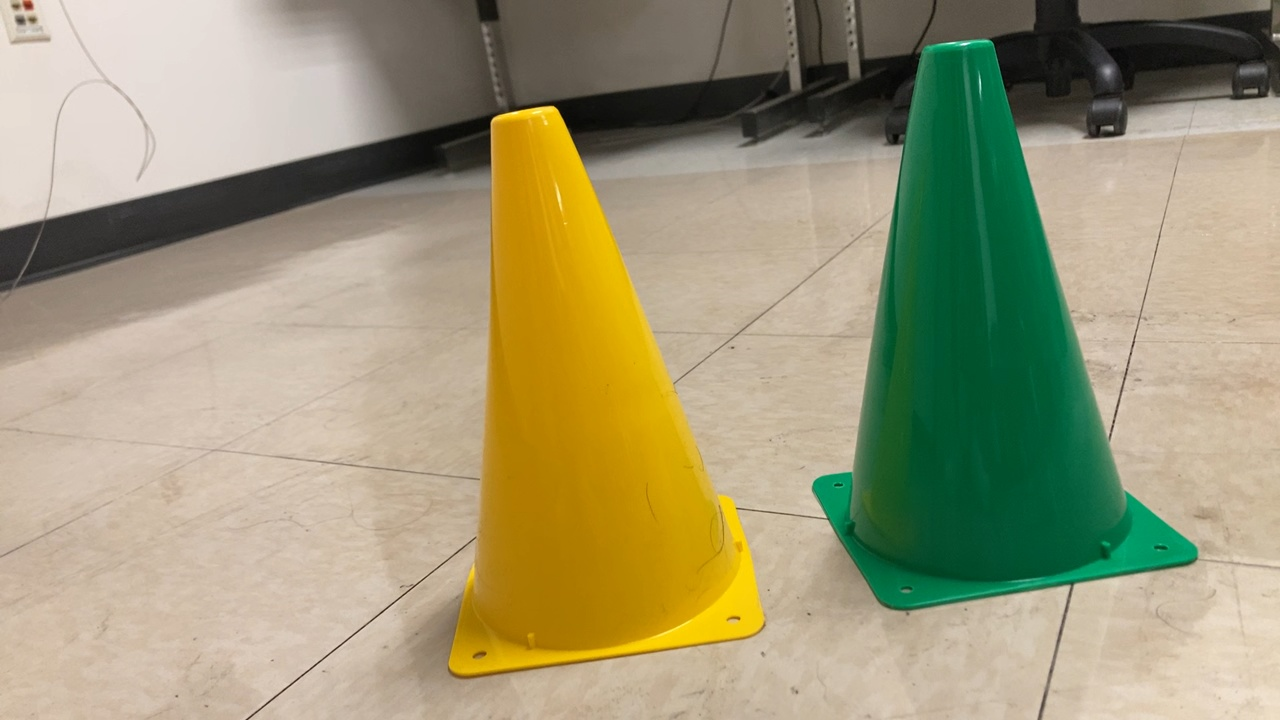green_cone: (810, 34, 1205, 618)
yellow_cone: (433, 96, 767, 687)
